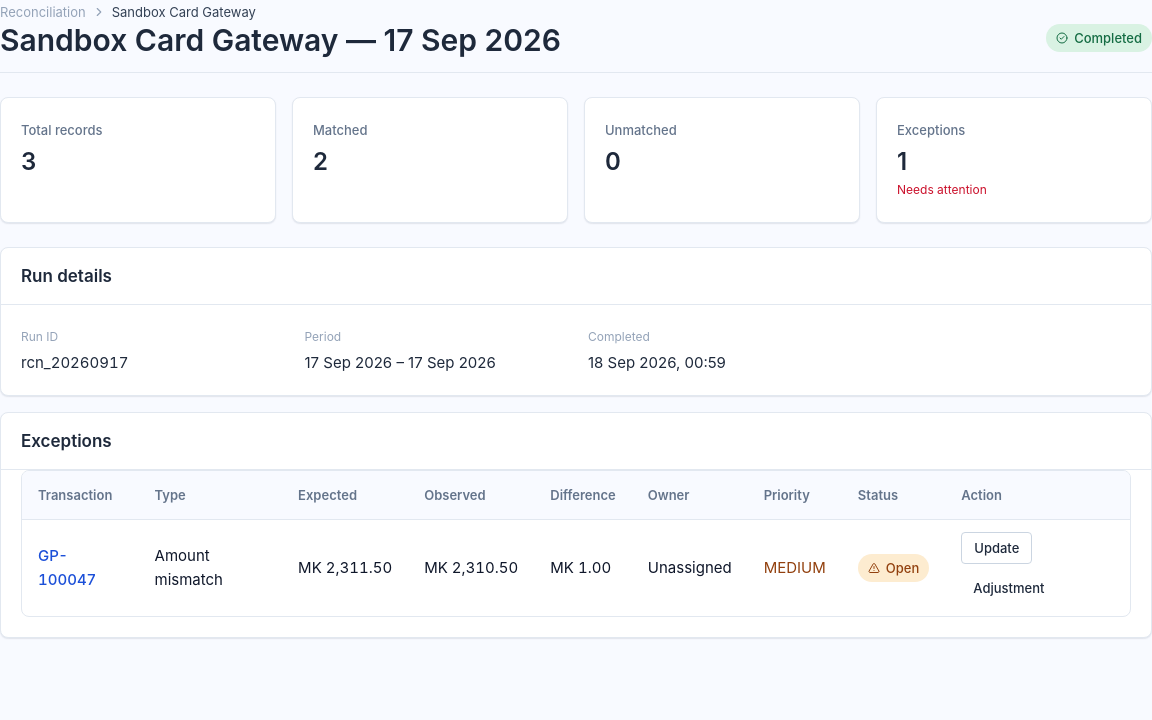
Test: ReconciliationRunDetail › creates an adjustment request but prevents the requester from reviewing it
Click the button "Adjustment": click(1009, 588) left=961, top=572, right=1056, bottom=604
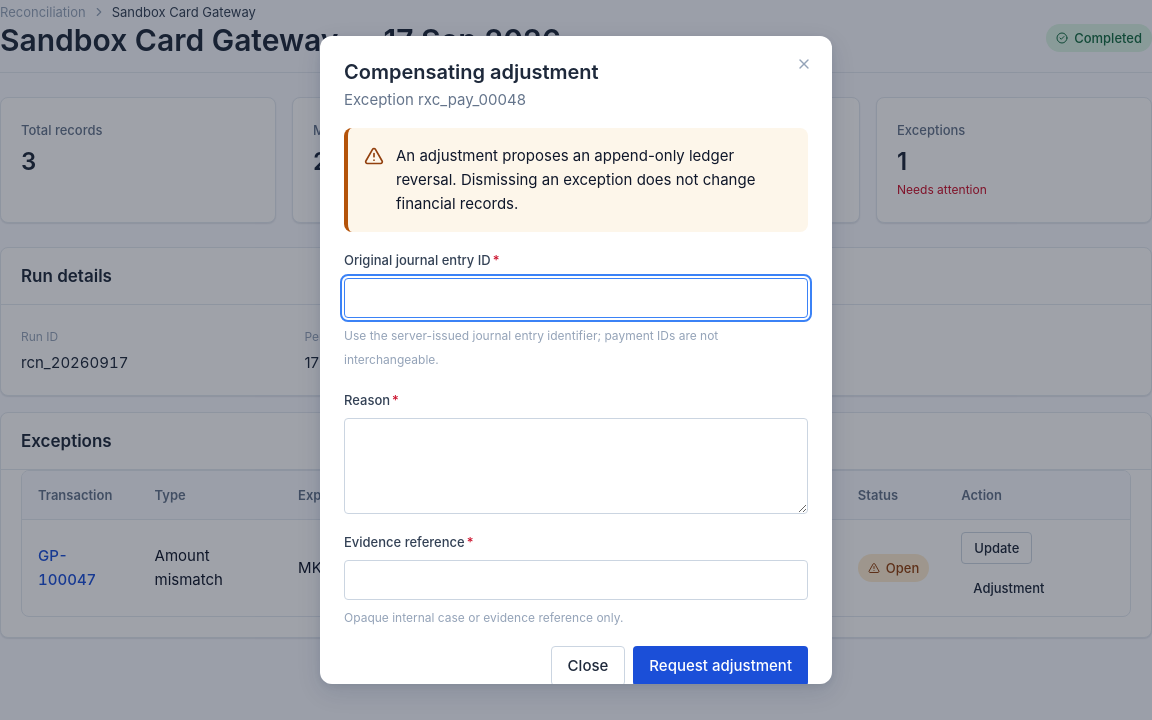
In the field labelled "Original journal entry ID*": (576, 298) left=344, top=278, right=808, bottom=318, type "jnl_original_1"
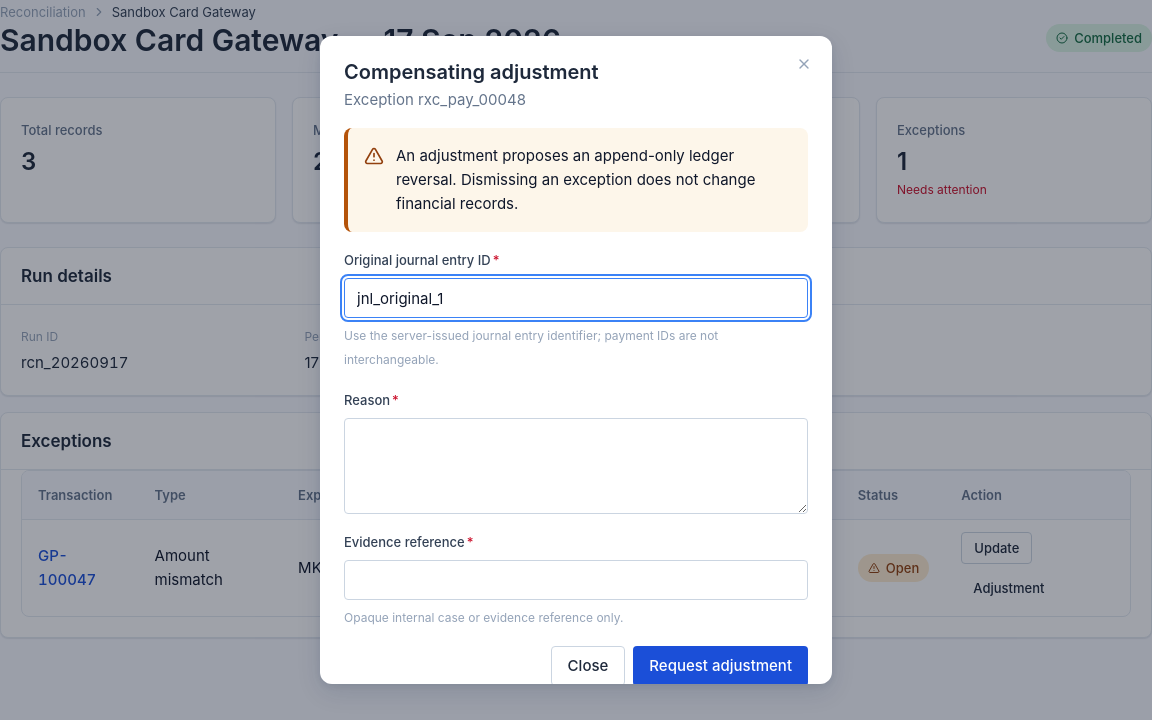
In the text box labelled "Reason*": (576, 466) left=344, top=418, right=808, bottom=514, type "Correct the confirmed sandbox ledger mismatch."
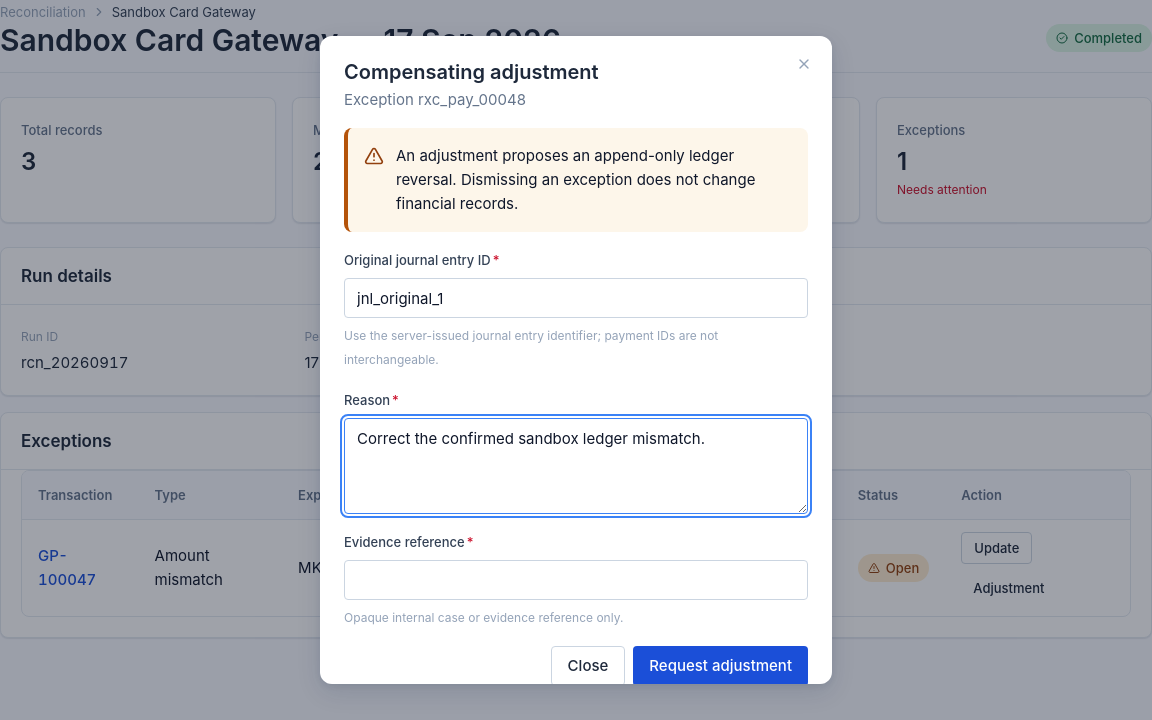
In the field labelled "Evidence reference*": (576, 580) left=344, top=560, right=808, bottom=600, type "case-123"
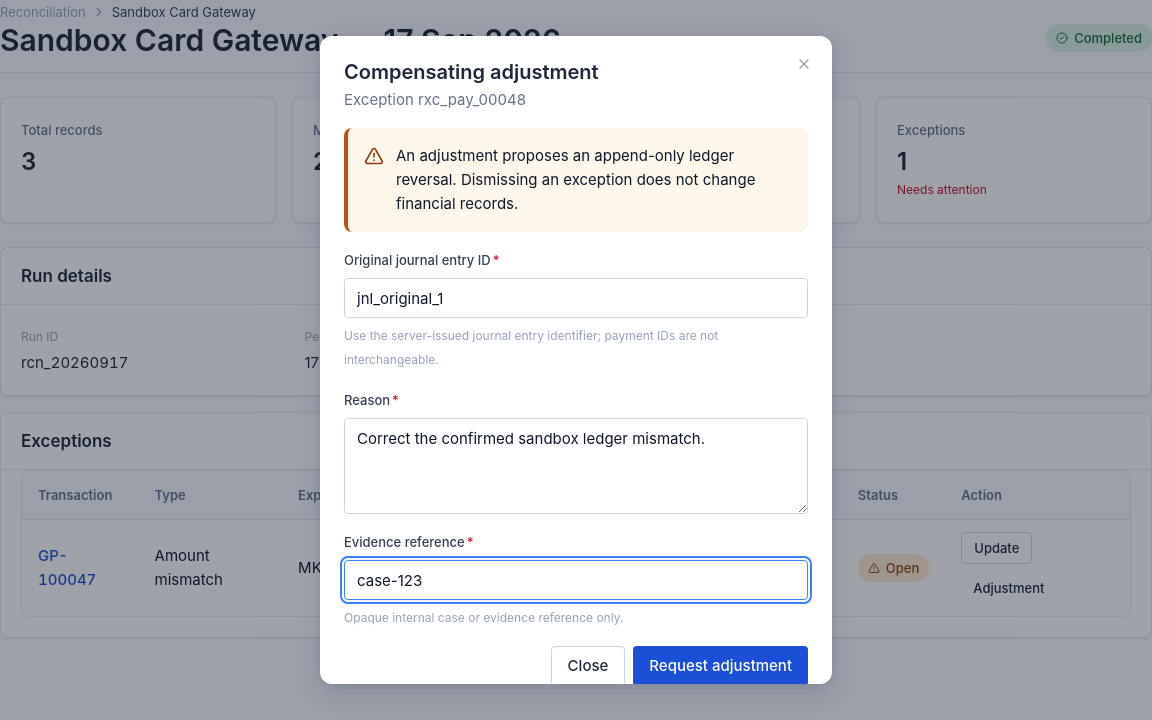
Click the button "Request adjustment": click(721, 666) left=633, top=646, right=808, bottom=686
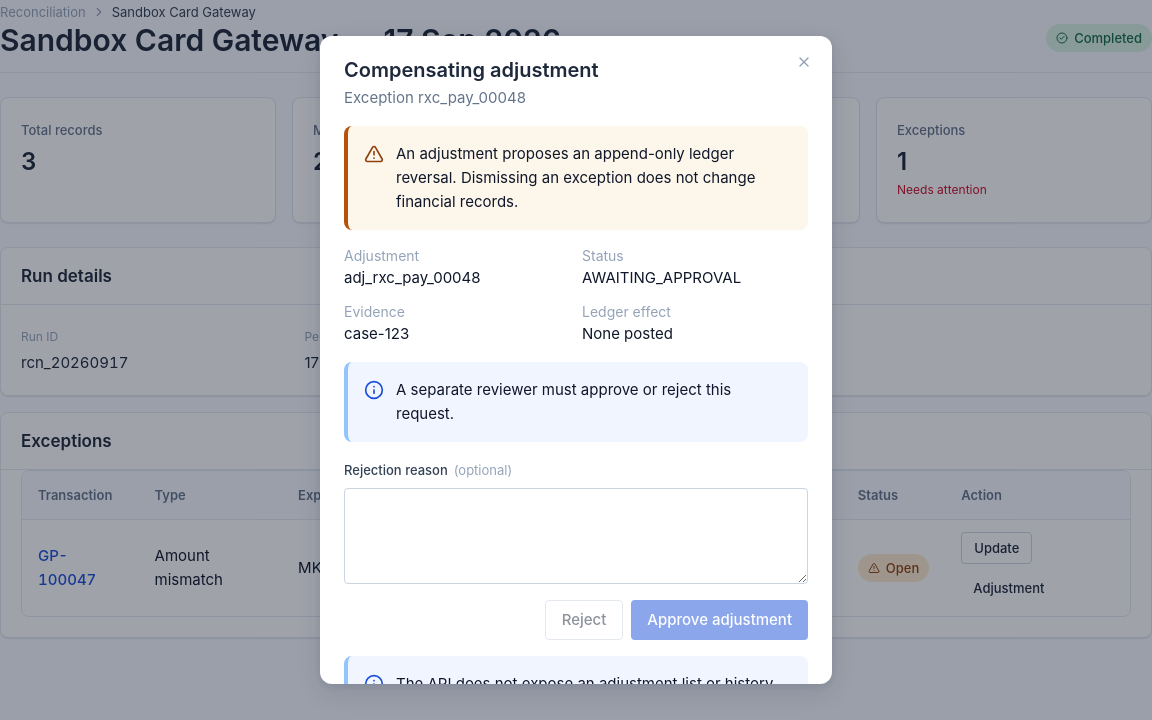
Expected: the text "AWAITING_APPROVAL" is shown, left=582, top=268, right=741, bottom=287
Expected: the button "Approve adjustment" is disabled, left=631, top=600, right=808, bottom=640
Expected: the text "A separate reviewer must approve or reject this request." is shown, left=396, top=380, right=731, bottom=423
